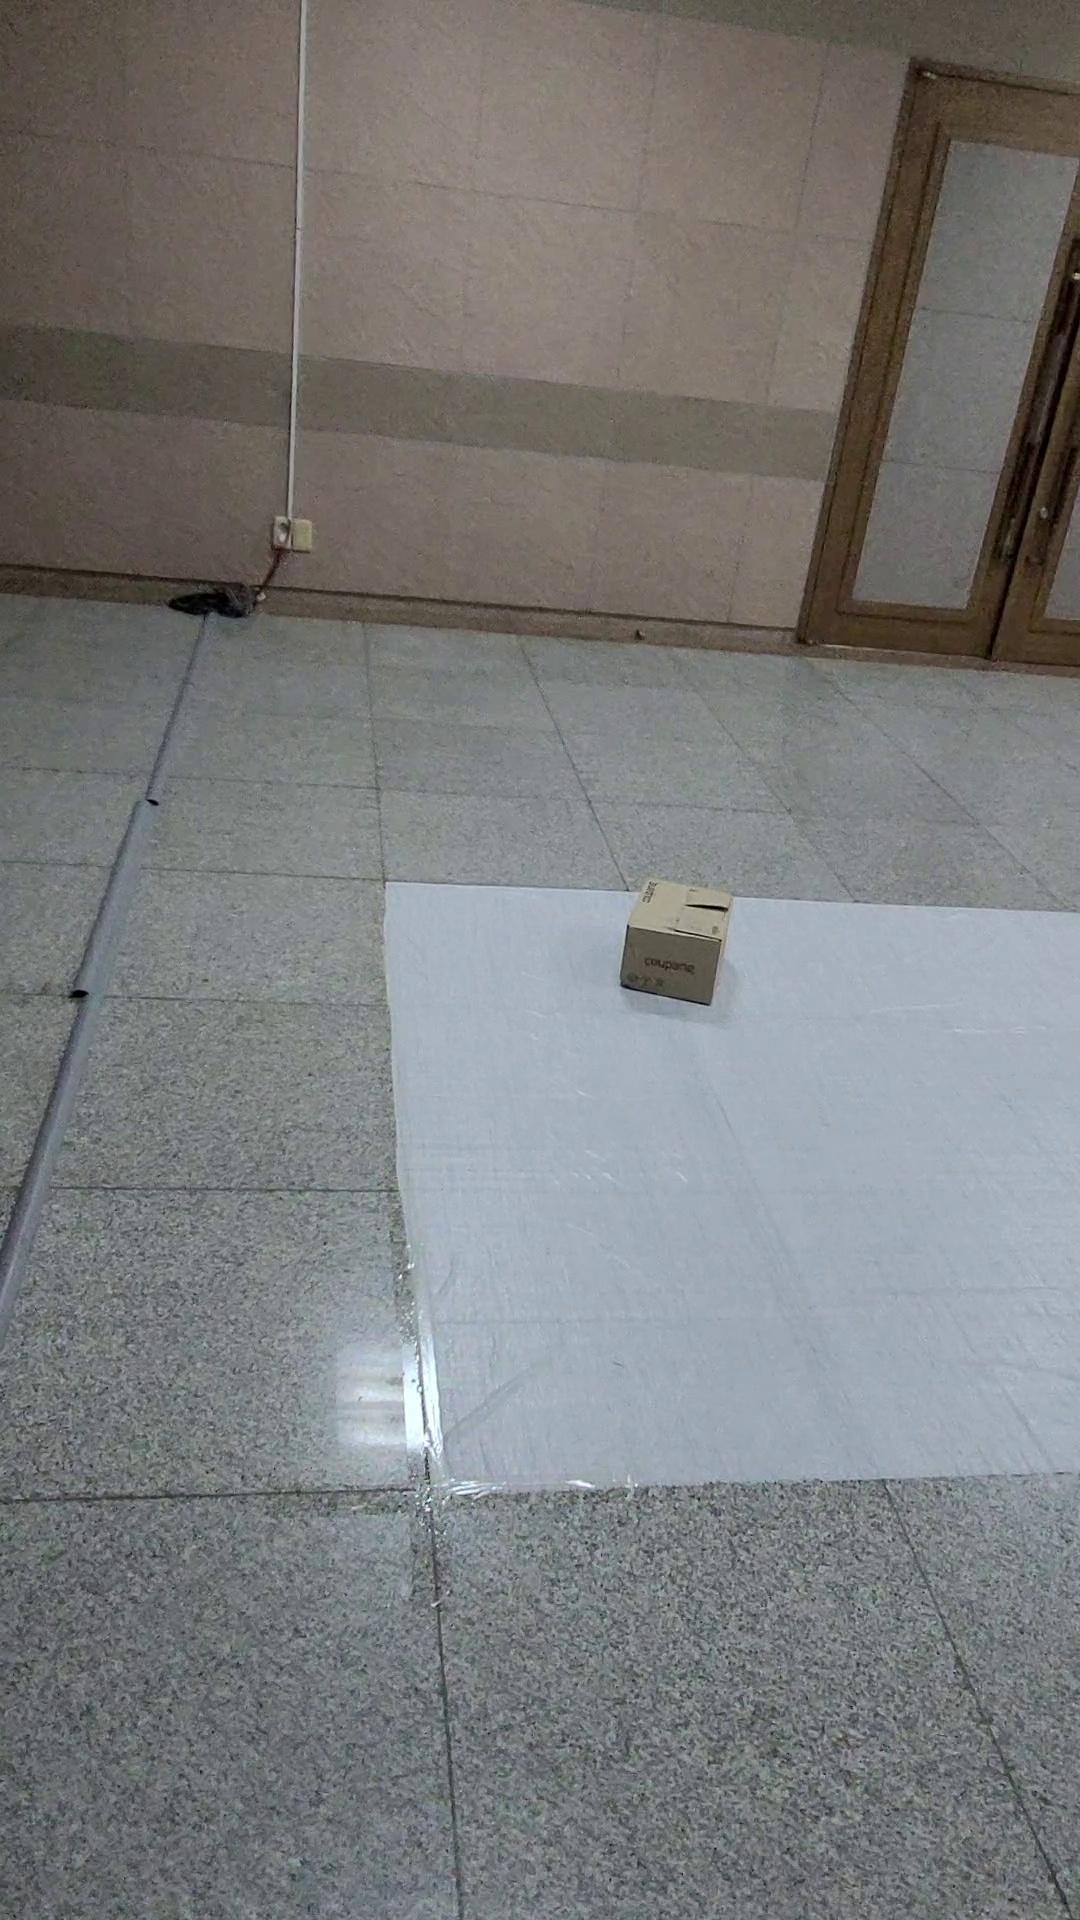Box: (611, 865, 742, 1011)
